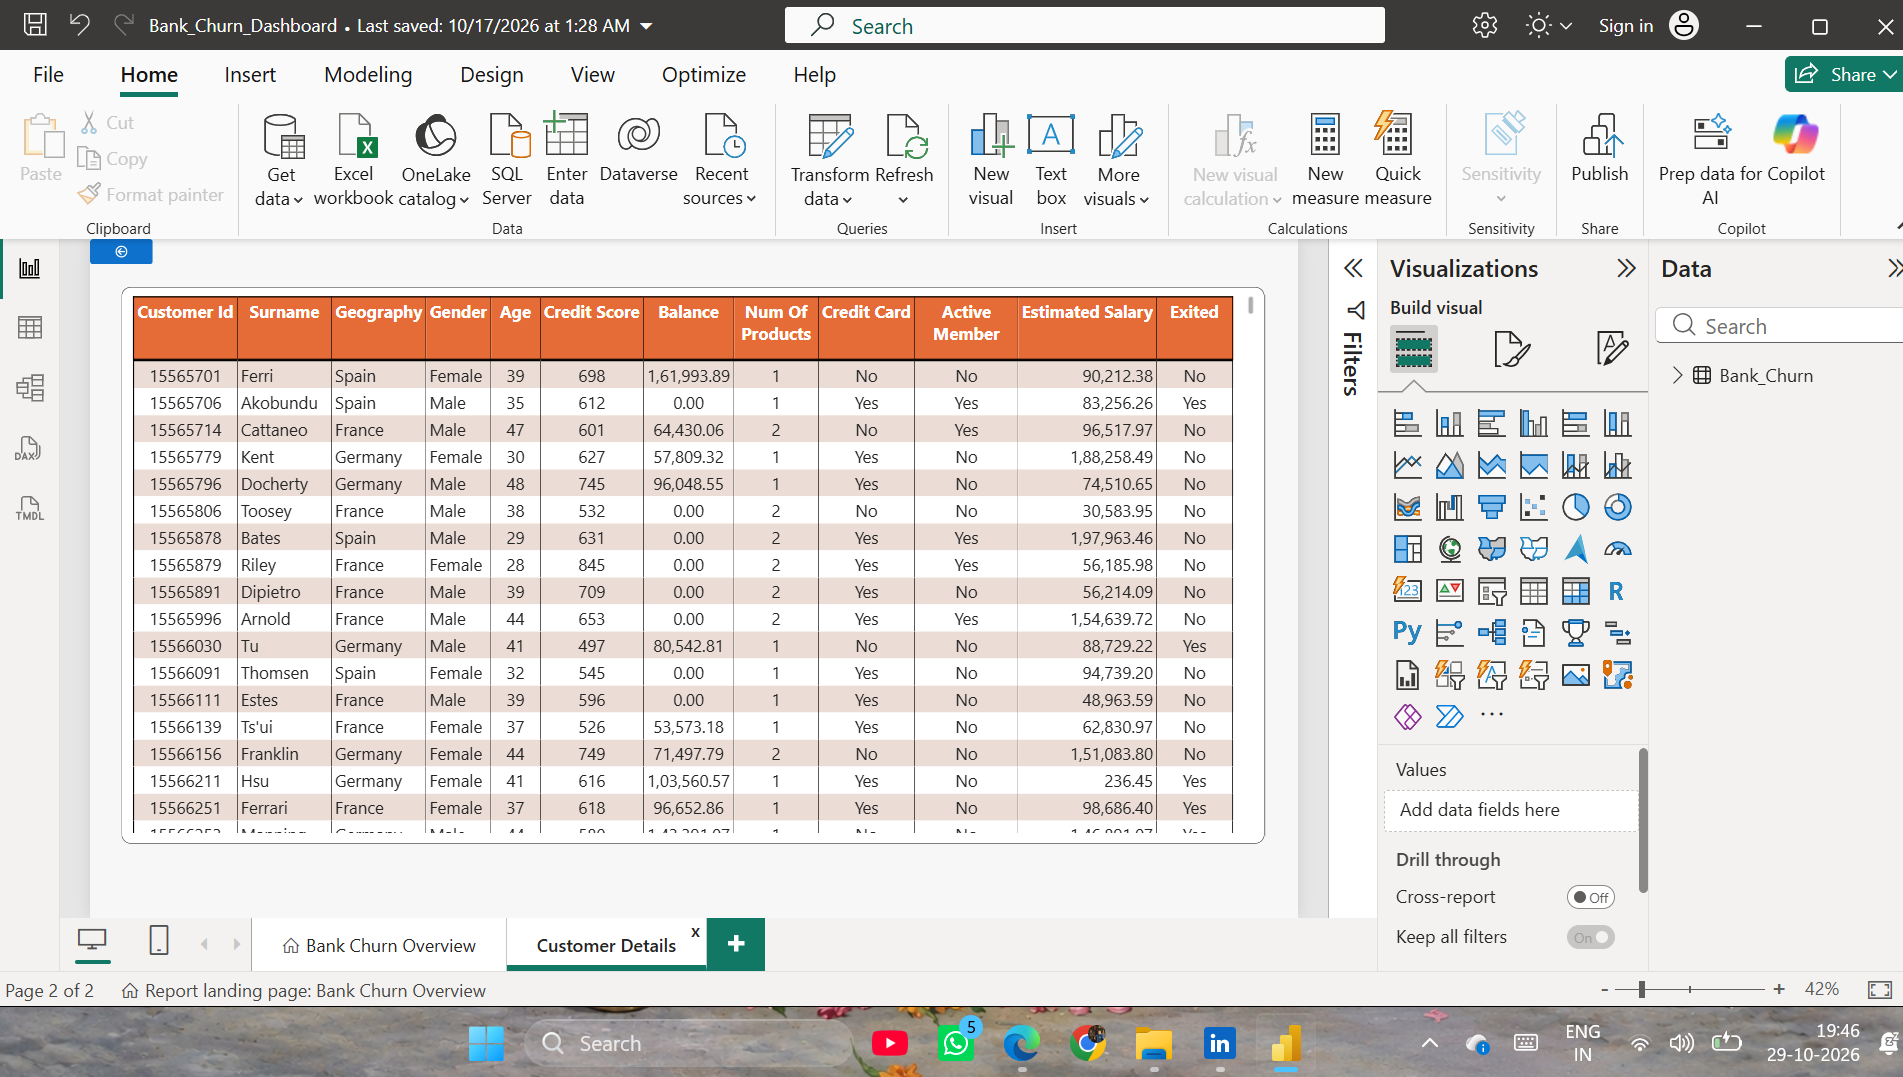

Layout of this report page (visuals, bound fields, positions):
{"tool":"powerbi","page":{"name":"Customer Details","canvas":[1920,1080],"ordinal":1},"visuals":[{"type":"actionButton","box":[0,0,100,40],"z":0},{"type":"tableEx","fields":{"Values":["Bank_Churn.CustomerId","Bank_Churn.Surname","Bank_Churn.Geography","Bank_Churn.Gender","Bank_Churn.Age","Bank_Churn.CreditScore","Bank_Churn.Balance","Bank_Churn.NumOfProducts","Bank_Churn.Credit Card","Bank_Churn.Active Member","Bank_Churn.EstimatedSalary","Bank_Churn.Exited"]},"box":[50.1,76.3,1818.1,885.2],"z":1}]}

Visuals, with their boxes on the page's 1920x1080 design canvas (x1, y1, x2, y2). These are canvas units, not pixel positions in the 1903x1077 screenshot, which may show the page scaled, cropped or inside an application window:
actionButton: 0,0,100,40
tableEx - Bank_Churn.CustomerId x Bank_Churn.Surname: 50,76,1868,962
